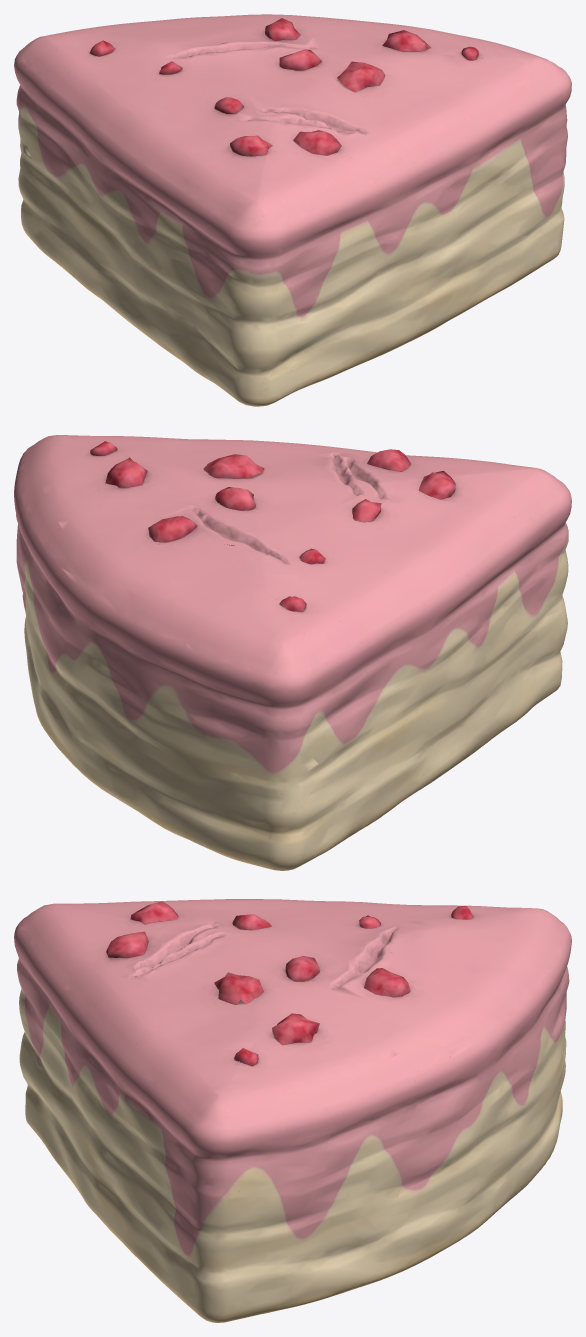
Rendered from scone--strawberry-roasted.glb.
The picture shows the model from 3 angles, top to bottom: view 1: azimuth 30°, elevation 25°; view 2: azimuth 150°, elevation 25°; view 3: azimuth 270°, elevation 25°; orthographic projection. The views are drawn at different scales.
Visible parts, largest first — view 1: scone_strawberry-roasted; view 2: scone_strawberry-roasted; view 3: scone_strawberry-roasted.
Part boxes in pixels (x1=…): scone_strawberry-roasted: x1=14, y1=14, x2=571, y2=406; scone_strawberry-roasted: x1=14, y1=435, x2=571, y2=870; scone_strawberry-roasted: x1=14, y1=899, x2=571, y2=1322.
Size of the model in its own units: 0.94 by 0.4908 by 0.9766.
Materials: 1 (1 with a texture image).
